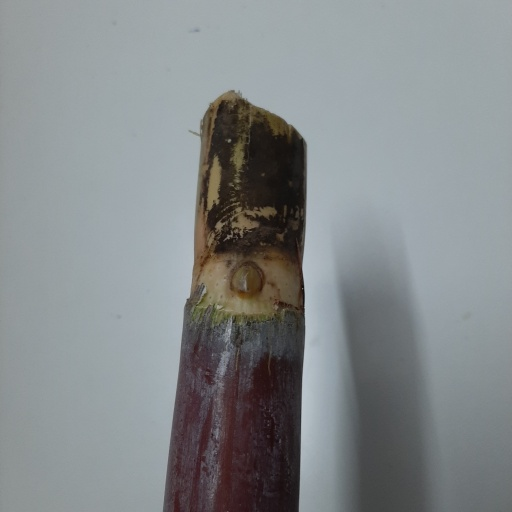Bud: (230, 261, 263, 300)
